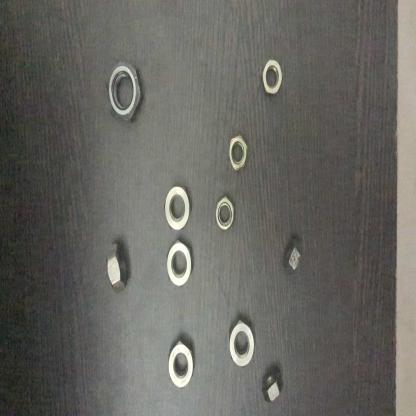NUTS: (106, 57, 144, 126), (223, 314, 259, 372), (163, 334, 199, 390), (100, 240, 132, 297), (162, 181, 193, 238), (165, 239, 194, 292), (259, 56, 288, 103), (280, 229, 306, 280), (210, 190, 239, 232), (226, 132, 250, 173)
